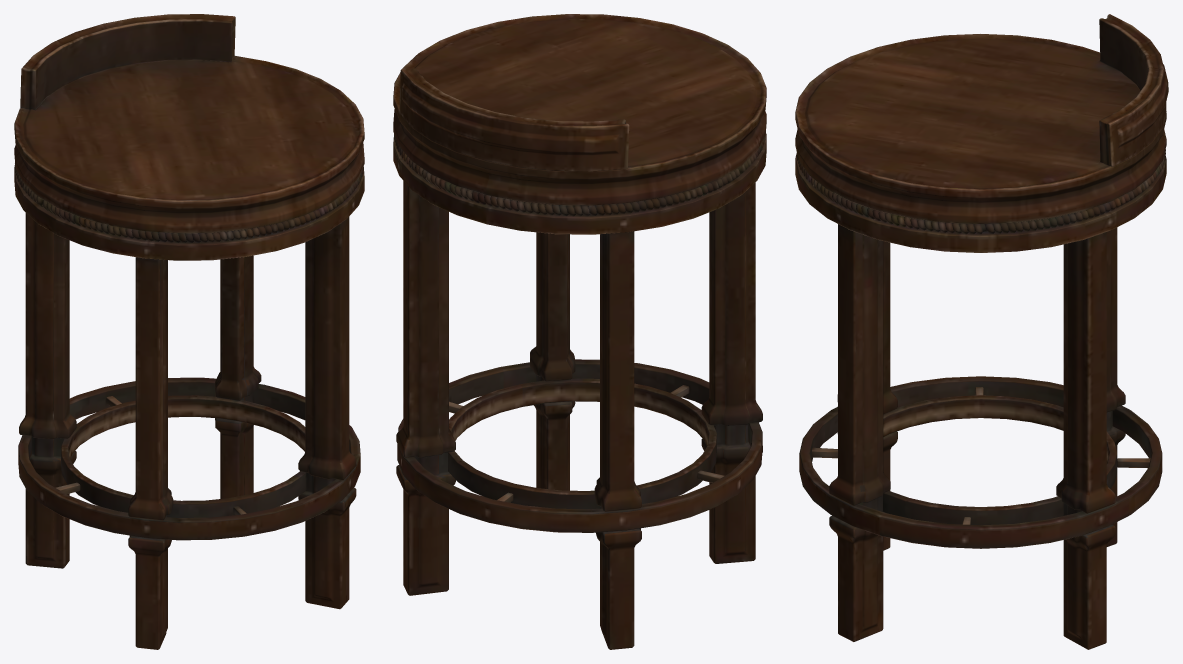
File: bar_chair_round_01.glb
3 renders of one model, left to right at view 1: azimuth 30°, elevation 25°; view 2: azimuth 150°, elevation 25°; view 3: azimuth 270°, elevation 25°, orthographic. The views are drawn at different scales.
Parts seen in each view (by area): view 1: bar_chair_round_01; view 2: bar_chair_round_01; view 3: bar_chair_round_01.
Boxes of the visible parts, box(x1,y1,x2,y2) form: bar_chair_round_01: box(14, 14, 364, 649); bar_chair_round_01: box(393, 14, 766, 649); bar_chair_round_01: box(795, 14, 1168, 649).
Bounding box in the file's own units: 0.4832 × 0.7505 × 0.486.
1 material, 1 textured.
